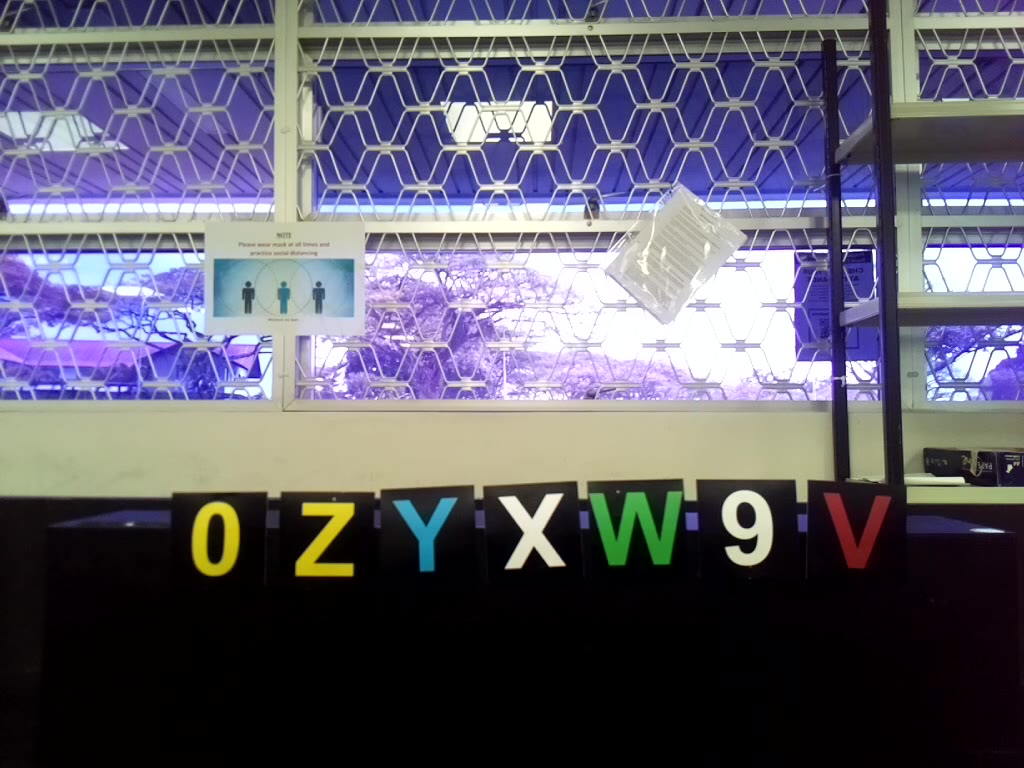0: (191, 499, 242, 579)
9: (824, 486, 891, 569), (718, 489, 773, 567)
w: (586, 490, 682, 565)
x: (494, 490, 570, 570)
y: (391, 496, 454, 571)
z: (297, 500, 358, 581)
